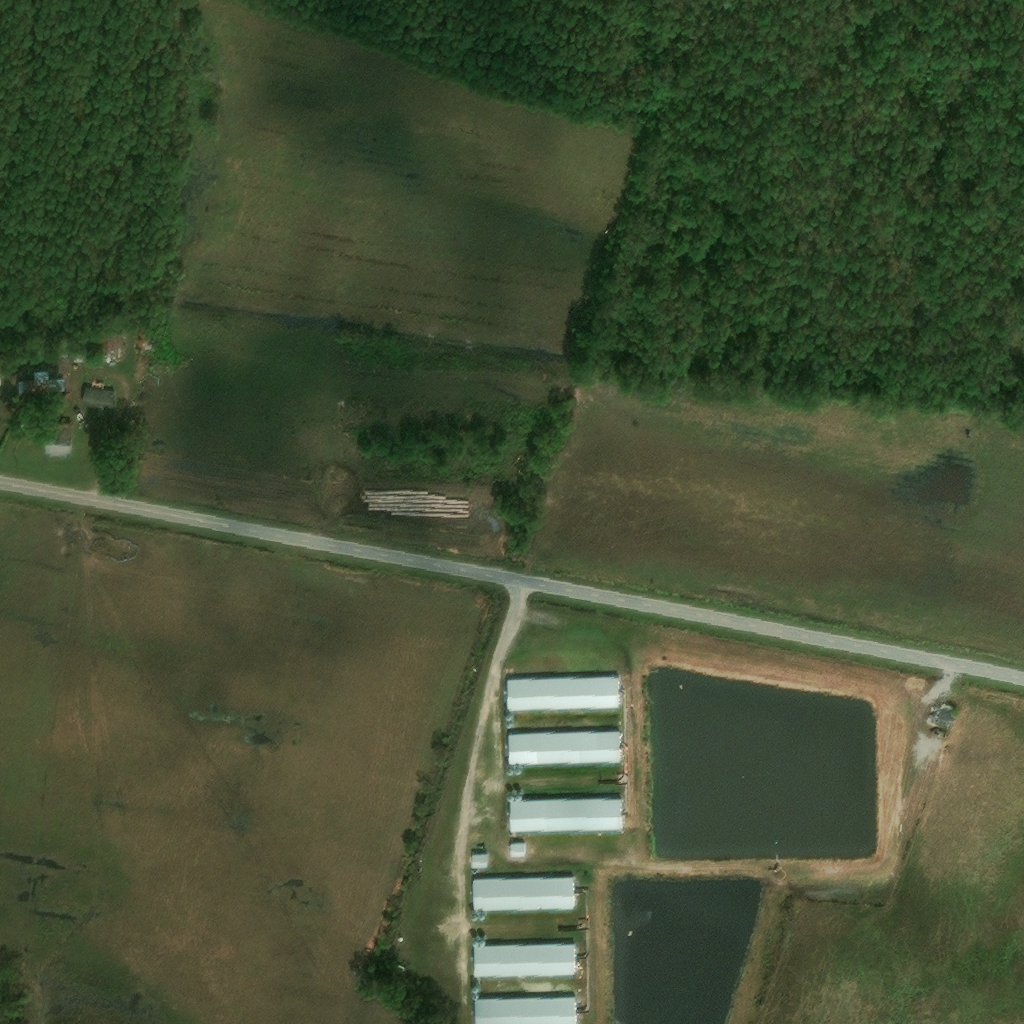no_damage: (502, 728, 618, 762), (502, 674, 618, 708), (504, 796, 619, 830), (467, 941, 573, 975), (468, 875, 574, 907), (468, 994, 574, 1023), (41, 427, 74, 455), (80, 388, 117, 409), (32, 369, 63, 390), (468, 852, 487, 867), (507, 841, 525, 855), (509, 763, 517, 770), (472, 934, 481, 940), (473, 908, 480, 915), (501, 710, 509, 716), (509, 790, 516, 796), (503, 764, 509, 770), (467, 982, 473, 988), (503, 791, 510, 796), (502, 716, 508, 721), (467, 909, 473, 914), (467, 988, 473, 993), (468, 935, 473, 940)
unclassified: (89, 330, 123, 350), (40, 340, 68, 359), (34, 351, 41, 359)
